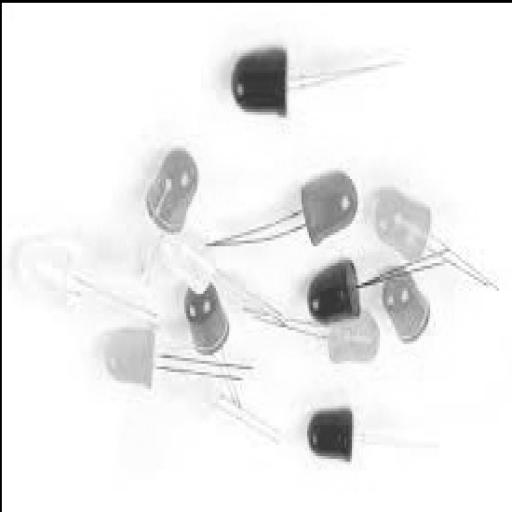LED: (124, 118, 233, 286), (0, 205, 98, 342), (174, 259, 255, 394), (95, 291, 177, 419), (360, 164, 452, 265), (221, 30, 302, 142), (378, 266, 452, 372), (270, 168, 361, 251), (299, 234, 372, 330), (324, 303, 400, 388), (162, 209, 218, 311), (293, 388, 371, 455)
